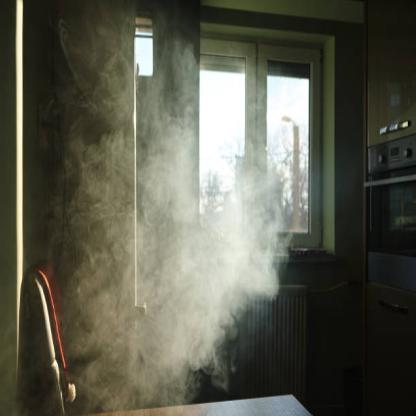smoke: (51, 5, 306, 413)
